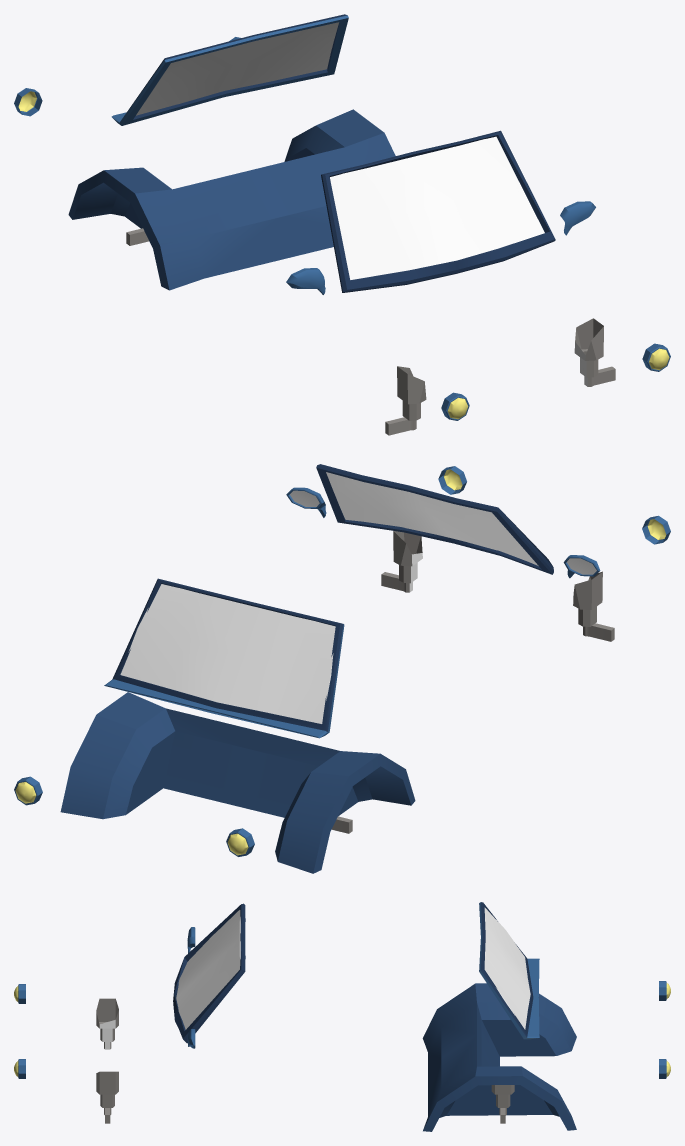
Rendered from nesnimaemoe.fbx.
3 views of the same model, one above another, from view 1: azimuth 30°, elevation 25°; view 2: azimuth 150°, elevation 25°; view 3: azimuth 270°, elevation 25° (orthographic). The views are drawn at different scales.
Parts seen in each view (by area): view 1: nesnimaemoe2; view 2: nesnimaemoe2; view 3: nesnimaemoe2.
Boxes of the visible parts, x1=… form: nesnimaemoe2: x1=14, y1=14, x2=670, y2=435; nesnimaemoe2: x1=14, y1=464, x2=670, y2=873; nesnimaemoe2: x1=14, y1=902, x2=670, y2=1131.
Bounding box in the file's own units: 148 × 88.98 × 355.
